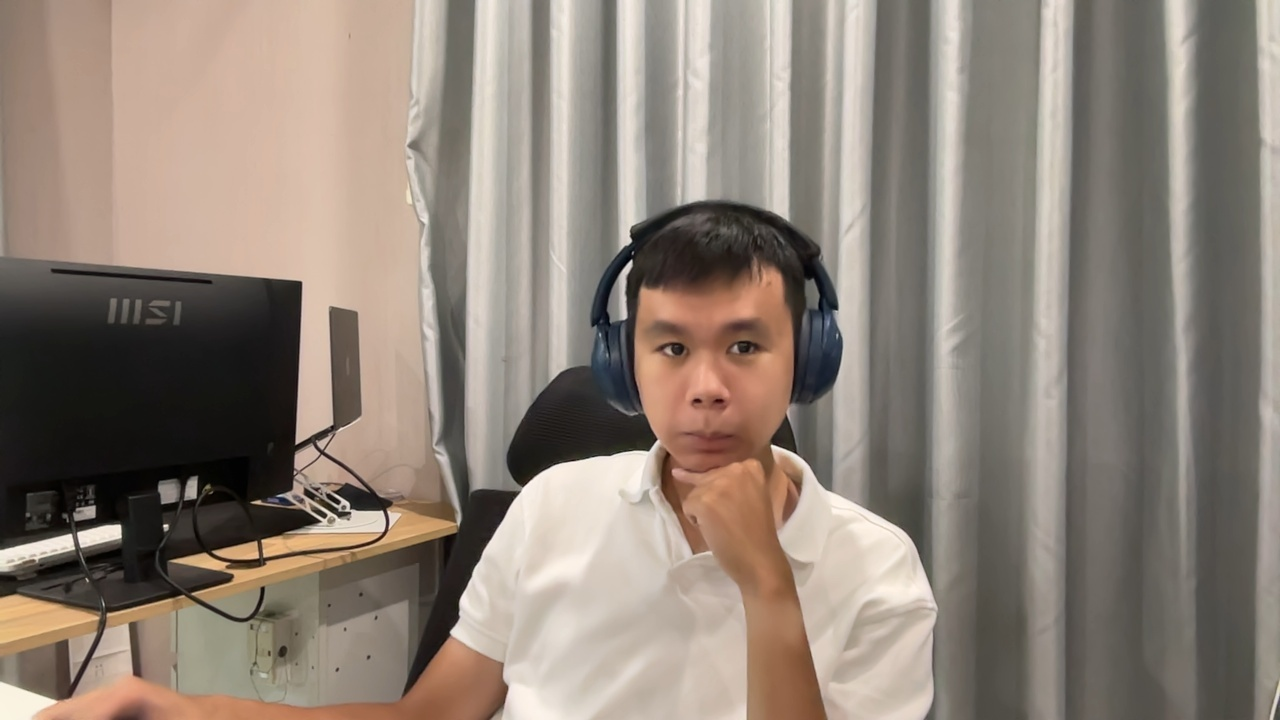over_ear: (587, 200, 844, 419), (587, 201, 844, 419), (587, 204, 721, 417)
